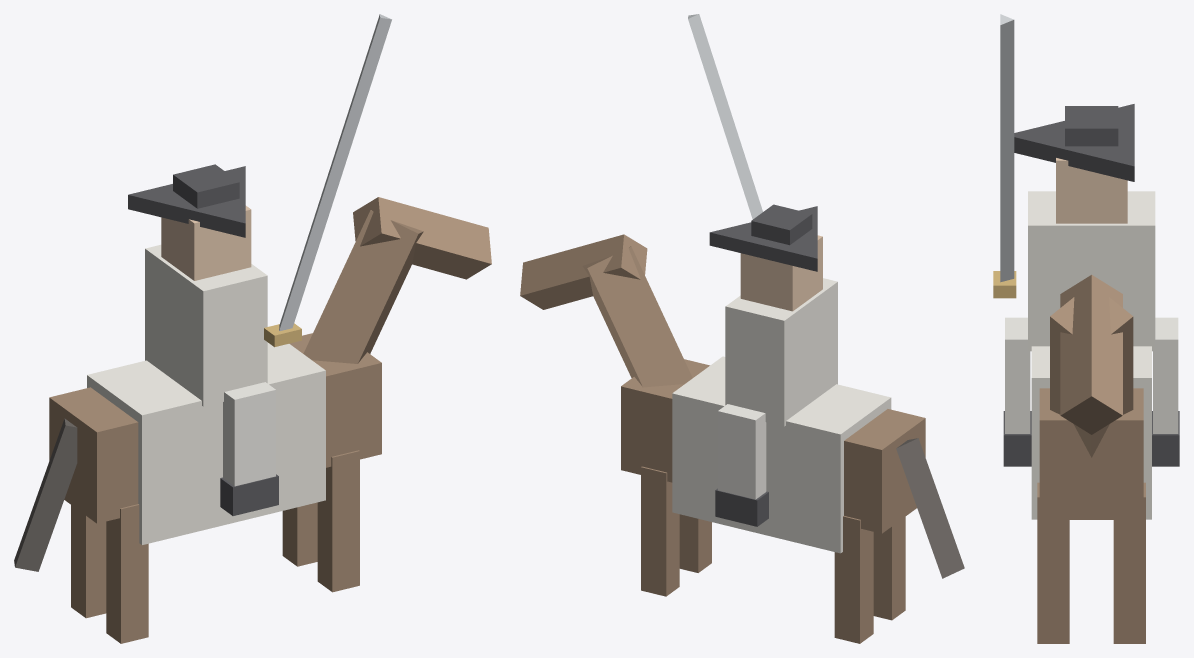
Rendered from formation_flank.glb.
The picture shows the model from 3 angles, left to right: view 1: azimuth 30°, elevation 25°; view 2: azimuth 150°, elevation 25°; view 3: azimuth 270°, elevation 25°; orthographic projection. The views are drawn at different scales.
Visible parts, largest first — view 1: gunpowder_formation_flank; view 2: gunpowder_formation_flank; view 3: gunpowder_formation_flank.
Part boxes in pixels (left/top/right/bottom): gunpowder_formation_flank: left=14, top=14, right=491, bottom=643; gunpowder_formation_flank: left=520, top=14, right=964, bottom=643; gunpowder_formation_flank: left=993, top=14, right=1179, bottom=643.
Bounding box in the file's own units: 0.8626 × 0.9995 × 0.2671.
